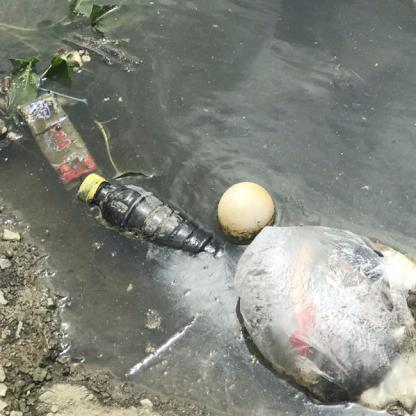plastic bottle: (77, 173, 223, 261)
